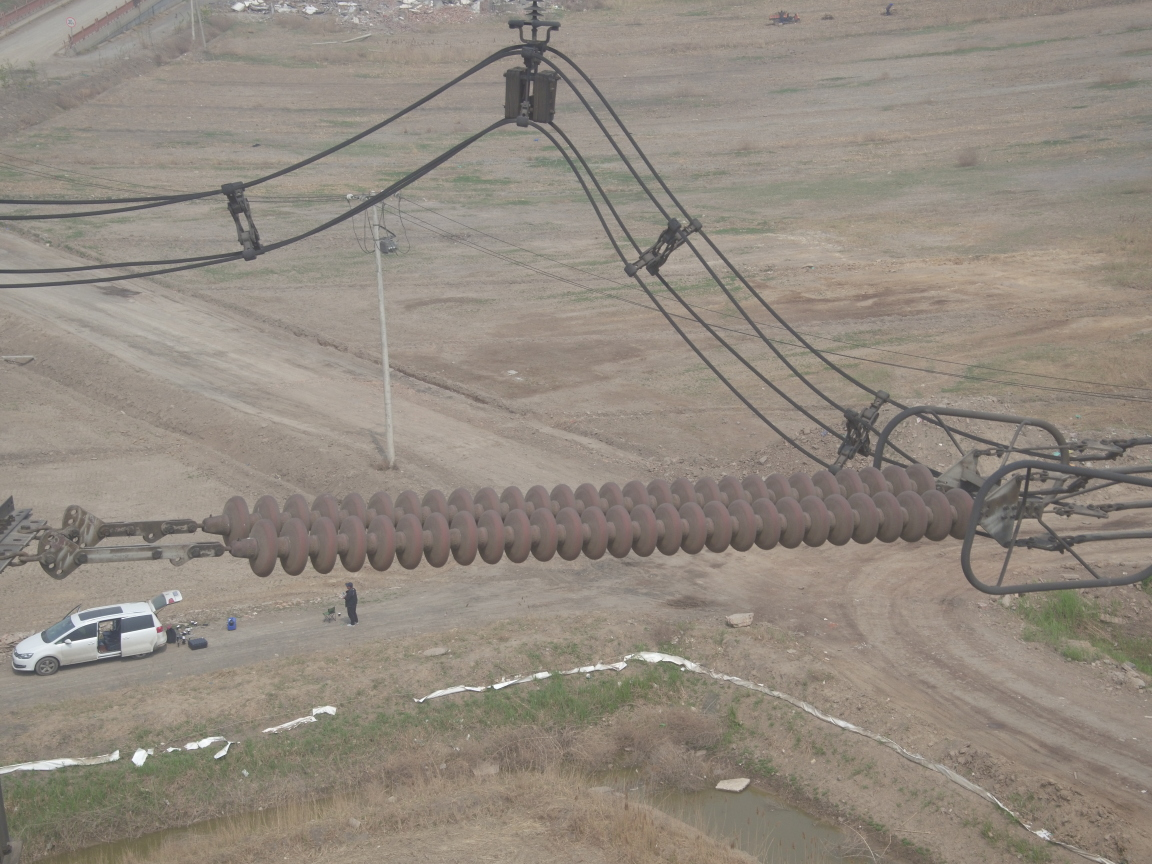insulator: (152, 455, 992, 580)
